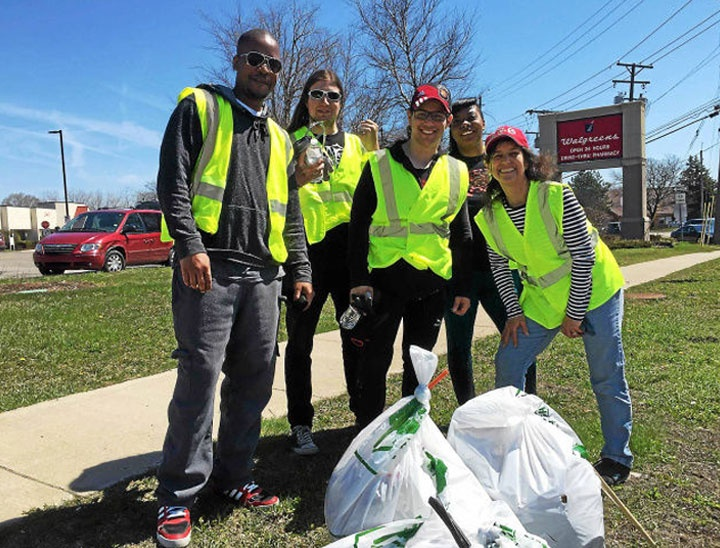person with partial safety: (158, 27, 285, 543), (483, 131, 650, 477), (364, 75, 459, 441), (290, 74, 378, 452)
person without safety: (446, 100, 516, 392)
safety vest: (160, 88, 286, 269), (477, 181, 628, 322), (366, 142, 463, 282), (297, 124, 368, 236)
